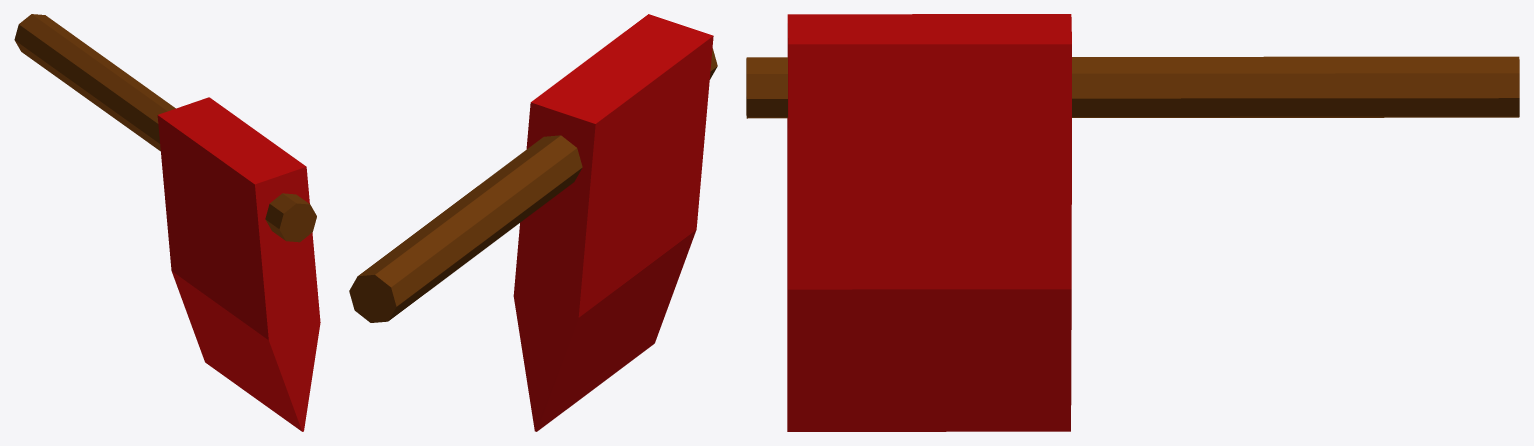
Rendered from axe.obj.
The picture shows the model from 3 angles, left to right: view 1: azimuth 30°, elevation 25°; view 2: azimuth 150°, elevation 25°; view 3: azimuth 270°, elevation 25°; orthographic projection. The views are drawn at different scales.
Visible parts, largest first — view 1: Cylinder; view 2: Cylinder; view 3: Cylinder.
Boxes of the visible parts, x1=… form: Cylinder: x1=14, y1=14, x2=320, y2=431; Cylinder: x1=349, y1=14, x2=717, y2=431; Cylinder: x1=746, y1=14, x2=1519, y2=431.
Bounding box in the file's own units: 0.2628 × 0.9904 × 1.78.
1 material, 1 textured.
